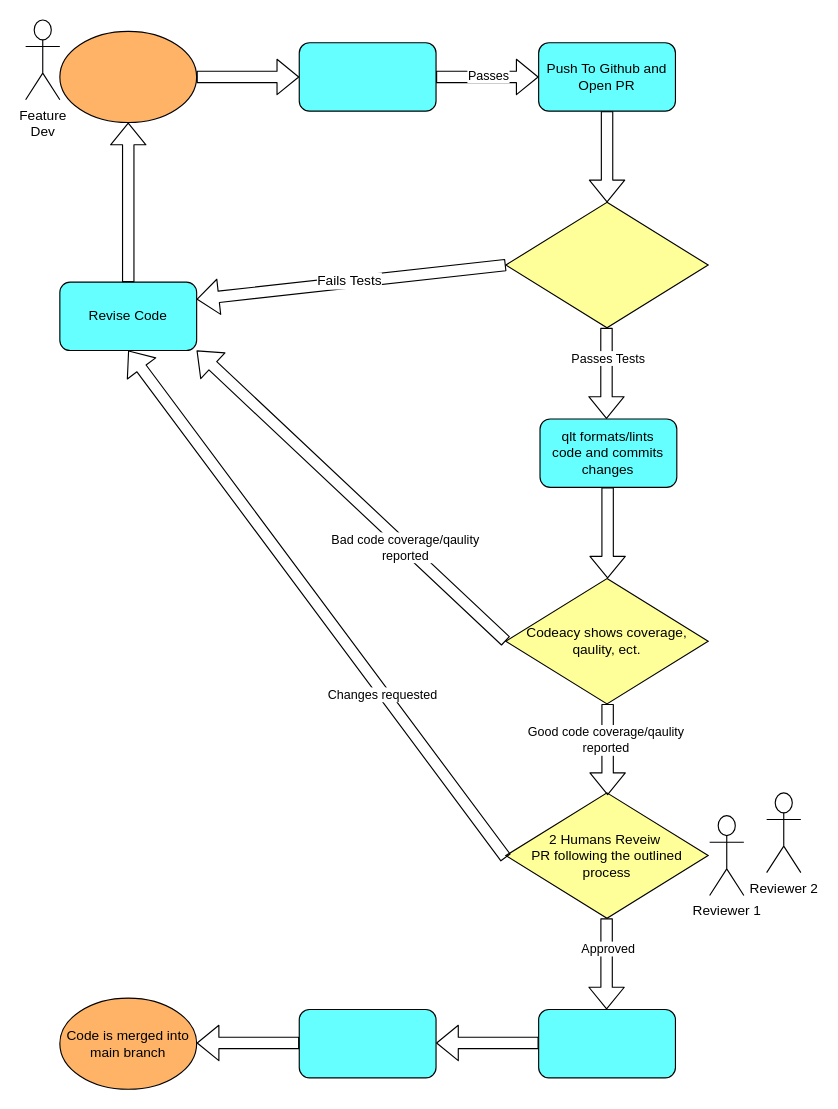
Some shapes in this 838 by 1109 pixel diagram are drawn without their labels. The shapes that lost their labels are listed below. From the top down, each one's box as (x1, y1, x2, y2) in pixels, then its label:
(59, 30, 197, 123): Dev Finishes Developing Code on featuer branch
(298, 42, 436, 111): Push code and open PR using template
(505, 201, 708, 328): Run Automatic Uint Tests (Jest)
(298, 1008, 436, 1078): Documentation is Generated by JSDoc
(538, 1008, 675, 1078): Closes relevant issue(s)
